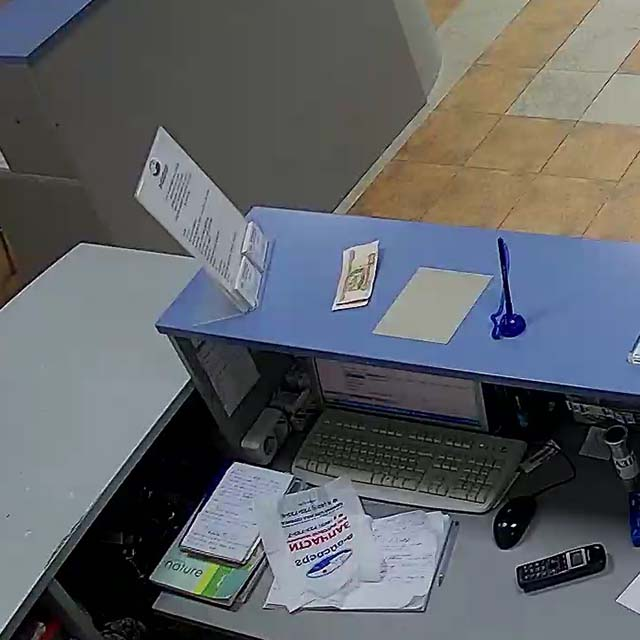banknotes: (331, 238, 377, 309)
